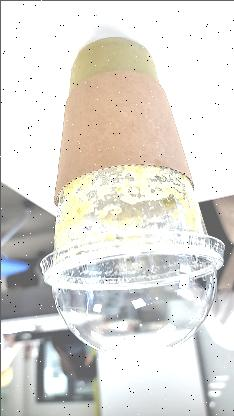Others: (39, 28, 223, 364), (39, 230, 227, 357)
